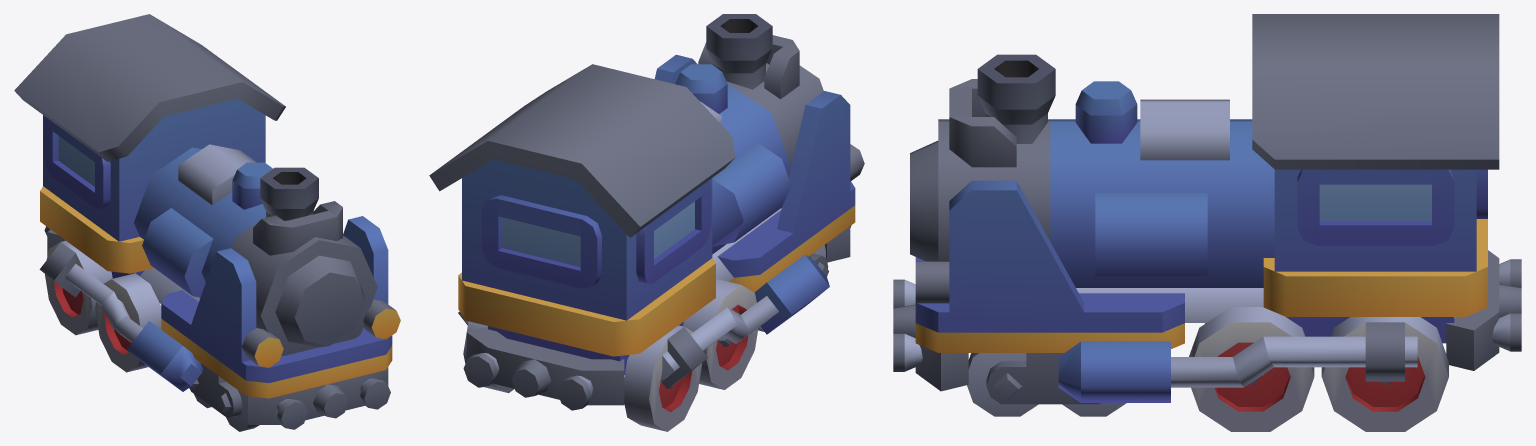
File: train-locomotive-c.glb
The picture shows the model from 3 angles, left to right: view 1: azimuth 30°, elevation 25°; view 2: azimuth 150°, elevation 25°; view 3: azimuth 270°, elevation 25°; orthographic projection. The views are drawn at different scales.
Visible parts, largest first — view 1: train-locomotive-c, wheel (×2), wheels-front; view 2: train-locomotive-c, wheel (×2); view 3: train-locomotive-c, wheel (×2), wheels-front.
Boxes of the visible parts, x1,y1,x2,y2 form: train-locomotive-c: (14,14,400,429); wheel (×2): (45,240,161,372); wheels-front: (189,363,259,431); train-locomotive-c: (429,14,864,410); wheel (×2): (624,279,758,431); train-locomotive-c: (893,14,1521,402); wheel (×2): (1189,307,1448,431); wheels-front: (967,353,1126,416).
Bounding box in the file's own units: 1.43 × 1.66 × 2.8.
